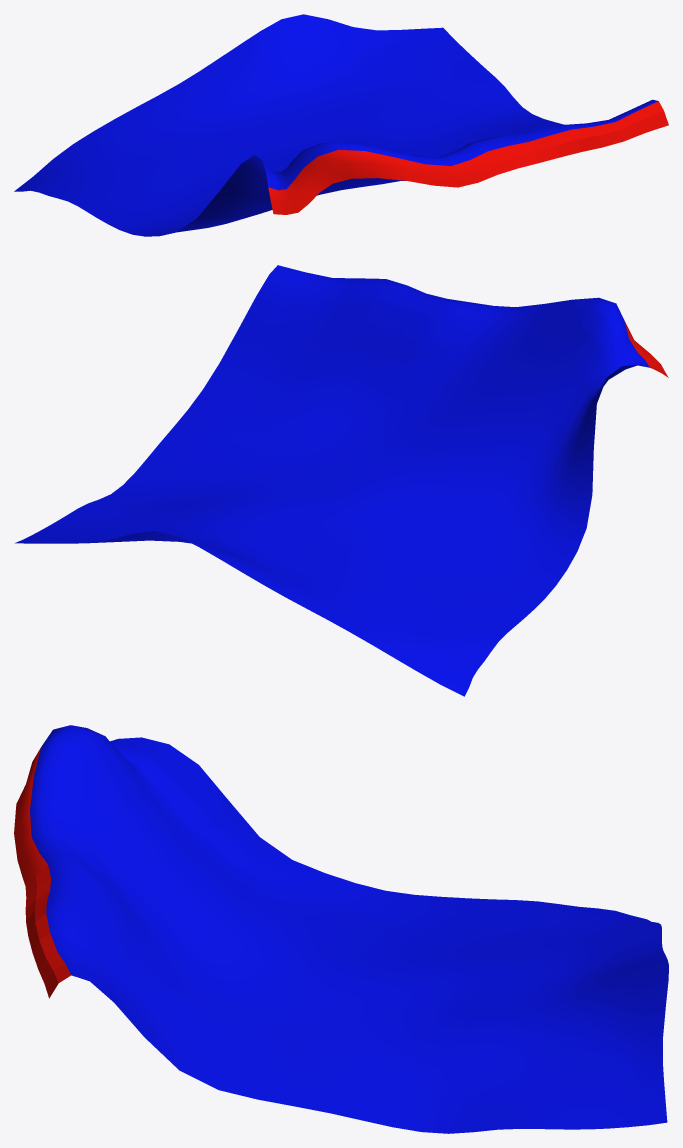
3 views of the same model, one above another, from view 1: azimuth 30°, elevation 25°; view 2: azimuth 150°, elevation 25°; view 3: azimuth 270°, elevation 25° (orthographic). The views are drawn at different scales.
Visible parts, largest first — view 1: T3; view 2: T3; view 3: T3.
Boxes of the visible parts, box(x1,y1,x2,y2) form: T3: box(14, 14, 668, 236); T3: box(15, 265, 668, 696); T3: box(14, 725, 668, 1133).
Size of the model in its own units: 5495 by 2359 by 5694.
